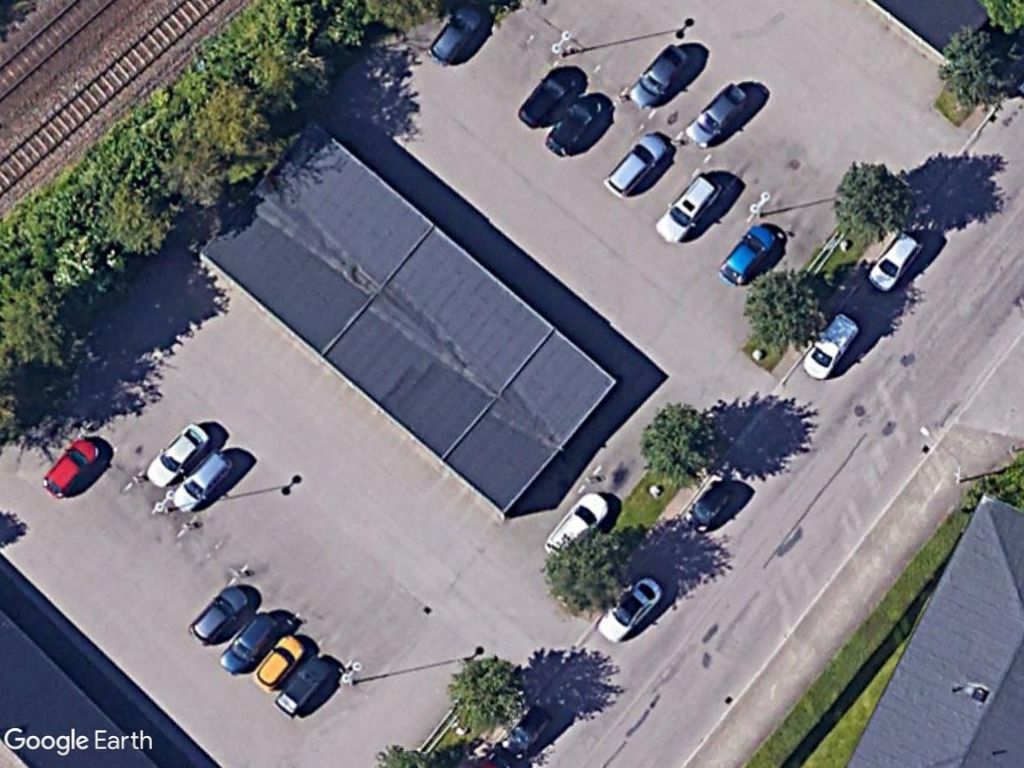car: (652, 170, 725, 246), (141, 418, 212, 490), (712, 220, 781, 292), (603, 128, 673, 198), (215, 604, 281, 678), (183, 580, 253, 649), (627, 40, 694, 112), (169, 444, 235, 516), (40, 431, 103, 501), (861, 229, 925, 294), (247, 630, 310, 696), (427, 4, 489, 65)
other: (682, 77, 753, 147)
van: (798, 309, 863, 382)
